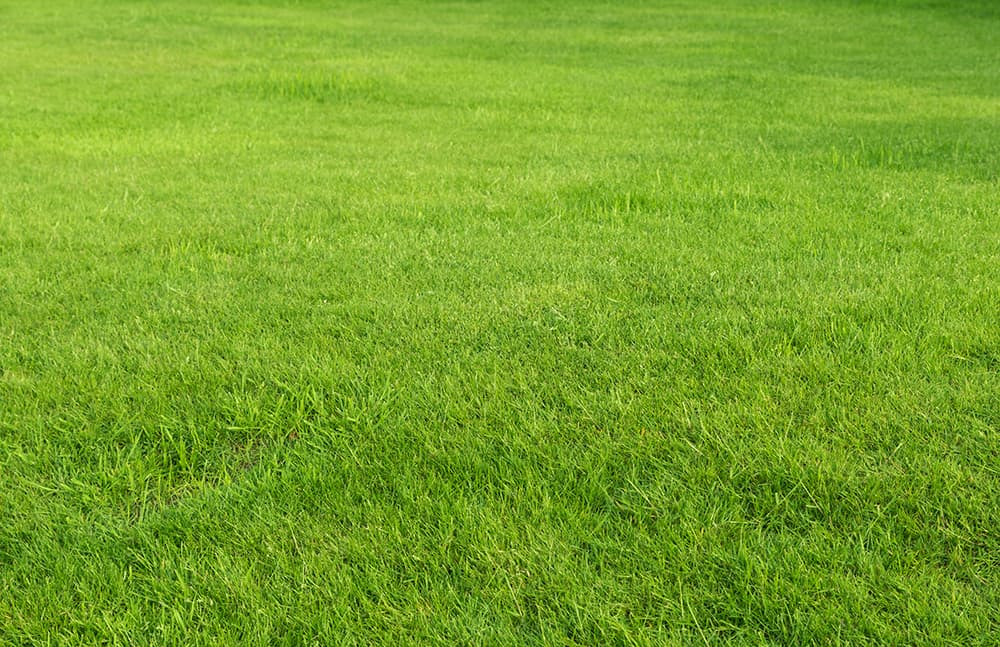grass: (3, 7, 1000, 647)
